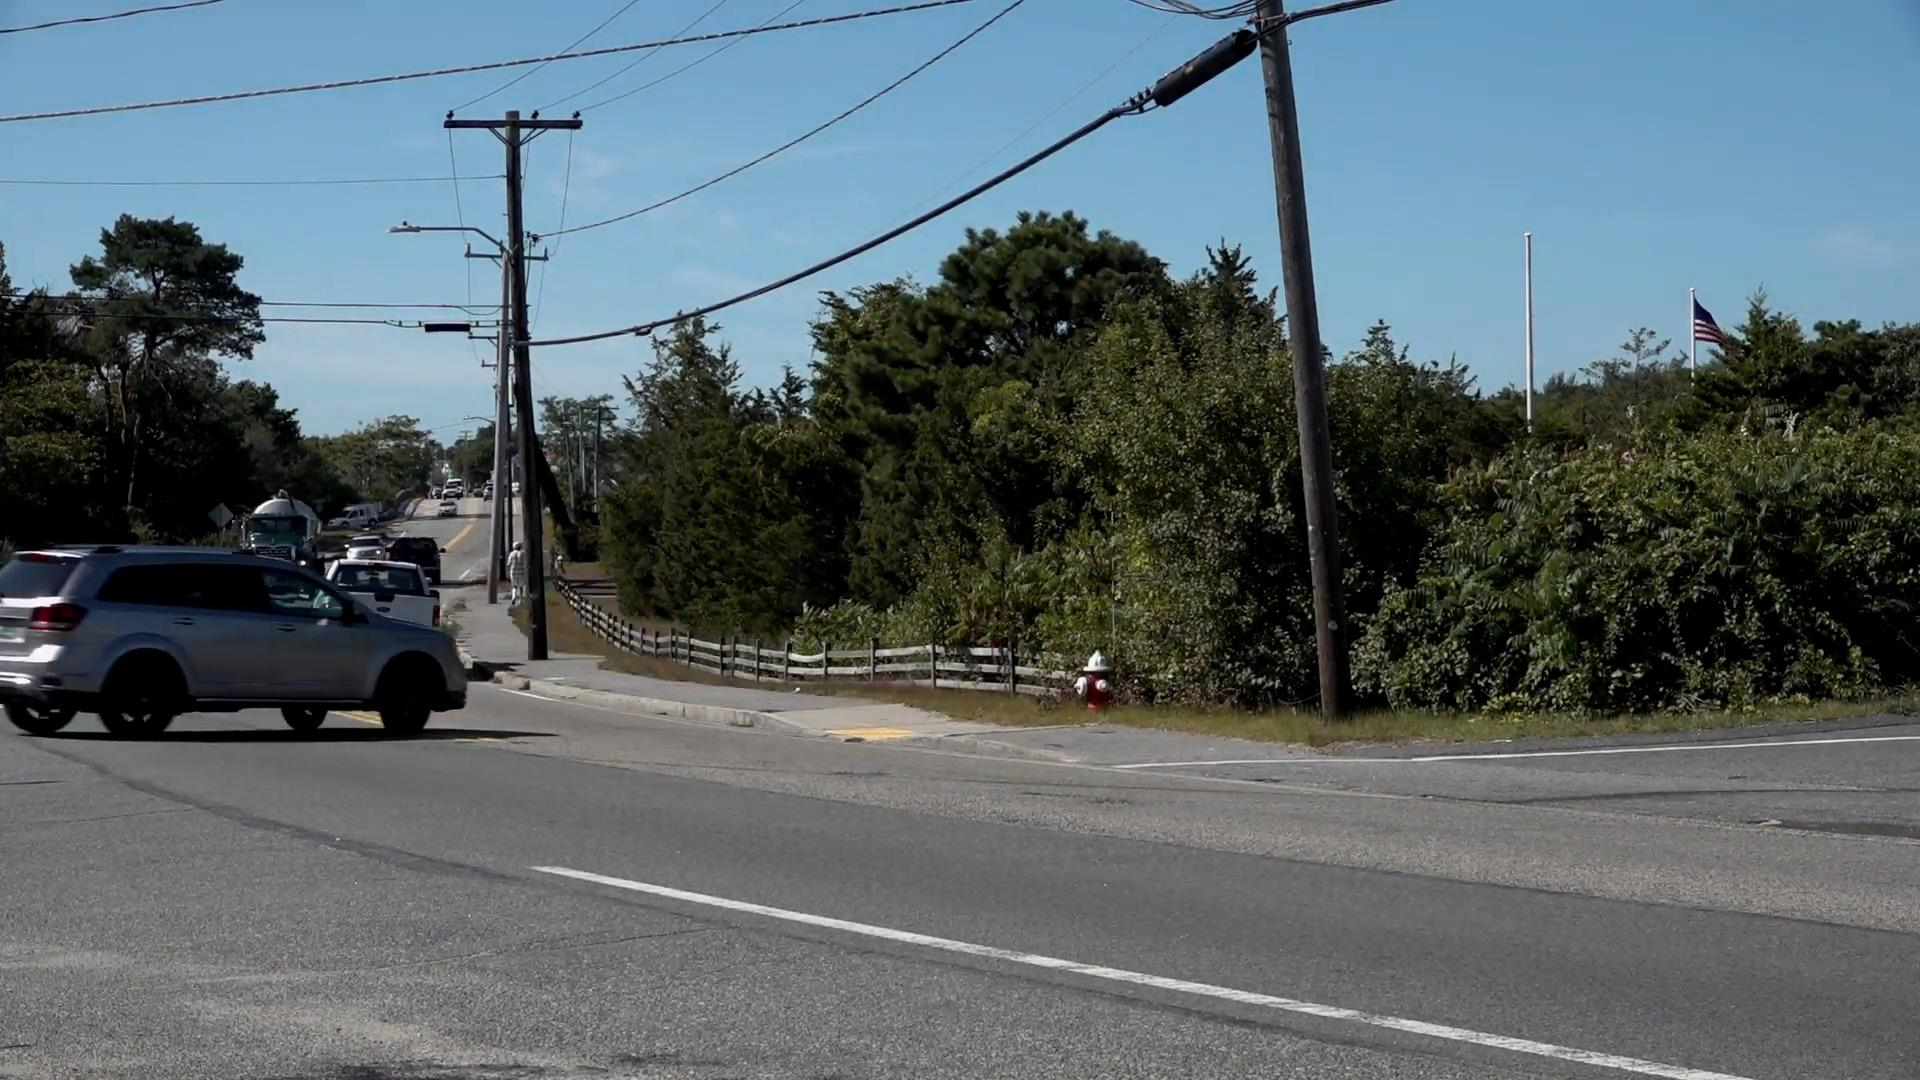suv: (0, 543, 466, 735)
